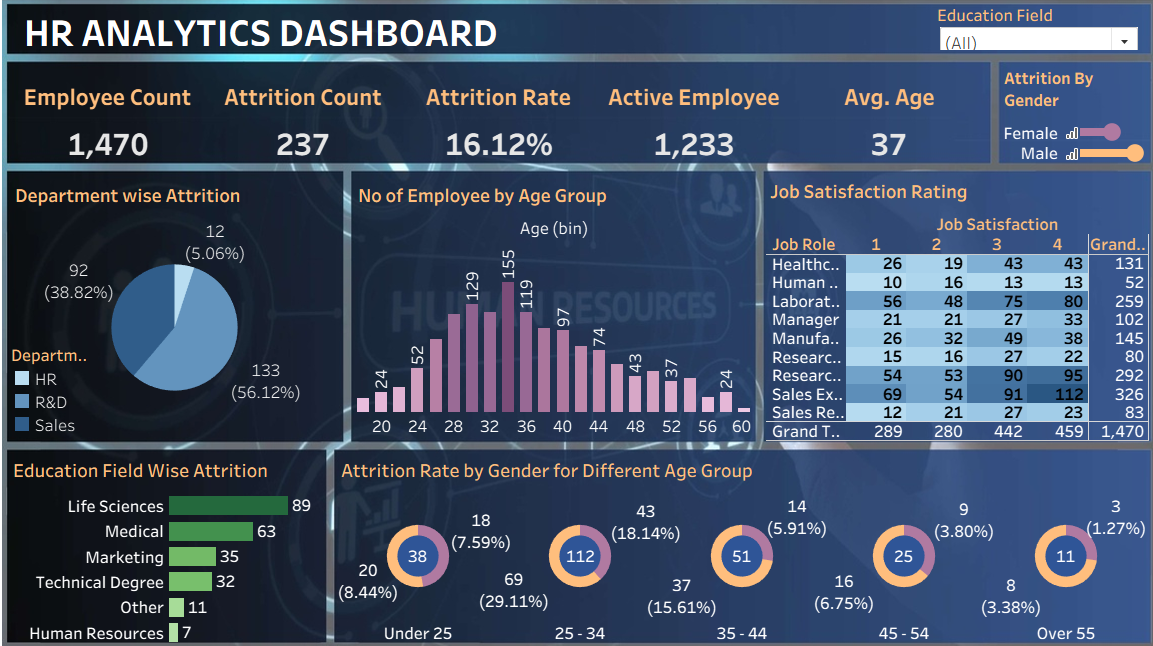

The dashboard page shown, as its layout file describes it:
{"tool":"tableau","page":{"name":"HR ANALYTICS DASHBOARD","canvas":[1150,700],"ordinal":0},"visuals":[{"type":"filter","title":"Department wise Attrition","param":"[federated.0j8u7n70v7jno11fnld7d0undn97].[none:Education Field:nk]","box":[931,29,204,46]},{"type":"text","box":[14,41,707,30]},{"type":"worksheet","title":"Attrition By Gender","mark":"Automatic","rows":["Gender"],"cols":["Calculation_1025899986210816","Calculation_1025899986210816"],"box":[994,88,147,100]},{"type":"worksheet","title":"KPI","mark":"Automatic","box":[4,91,977,93]},{"type":"worksheet","title":"Job Satisfaction Rating","mark":"Square","rows":["Job Role"],"cols":["Job Satisfaction"],"box":[760,199,383,267]},{"type":"worksheet","title":"Department wise Attrition","mark":"Pie","box":[5,203,327,259]},{"type":"worksheet","title":"No of Employee by Age Group","mark":"Automatic","rows":["Employee Count"],"cols":["Age (bin)"],"box":[348,203,399,260]},{"type":"legend","title":"Department wise Attrition","param":"[federated.0j8u7n70v7jno11fnld7d0undn97].[none:Department:nk]","box":[5,369,80,93]},{"type":"worksheet","title":"Education Field Wise Attrition","mark":"Automatic","rows":["Education Field"],"cols":["Calculation_1025899986210816"],"box":[3,478,314,192]},{"type":"worksheet","title":"Attrition Rate by Gender for Different Age Group","mark":"Pie","rows":["Calculation_1302152982900738","Calculation_1302152982900738"],"cols":["CF_age band"],"box":[331,478,811,192]}]}

Visuals, with their boxes on the page's 1150x700 design canvas (x1, y1, x2, y2). These are canvas units, not pixel positions in the 1153x646 screenshot, which may show the page scaled, cropped or inside an application window:
"Department wise Attrition" filter: 931, 29, 1135, 75
text: 14, 41, 721, 71
"Attrition By Gender" worksheet: 994, 88, 1141, 188
"KPI" worksheet: 4, 91, 981, 184
"Job Satisfaction Rating" worksheet (Square marks): 760, 199, 1143, 466
"Department wise Attrition" worksheet (Pie marks): 5, 203, 332, 462
"No of Employee by Age Group" worksheet: 348, 203, 747, 463
"Department wise Attrition" legend: 5, 369, 85, 462
"Education Field Wise Attrition" worksheet: 3, 478, 317, 670
"Attrition Rate by Gender for Different Age Group" worksheet (Pie marks): 331, 478, 1142, 670
